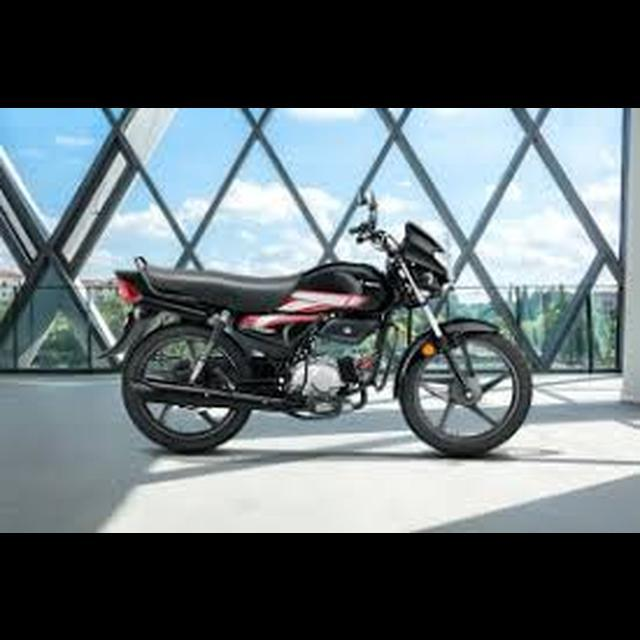motorcycle: (89, 179, 537, 465)
